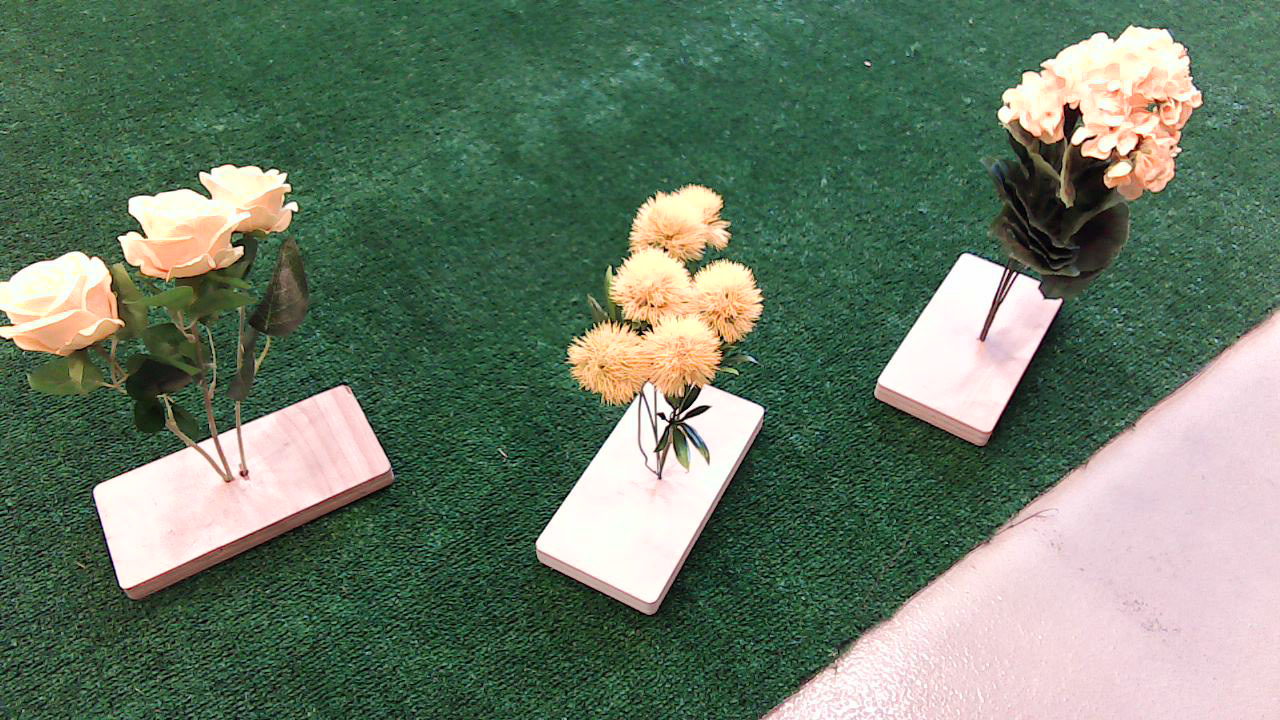dandelion: (550, 179, 790, 465)
geranium: (971, 11, 1214, 365)
rose: (4, 144, 326, 422)
